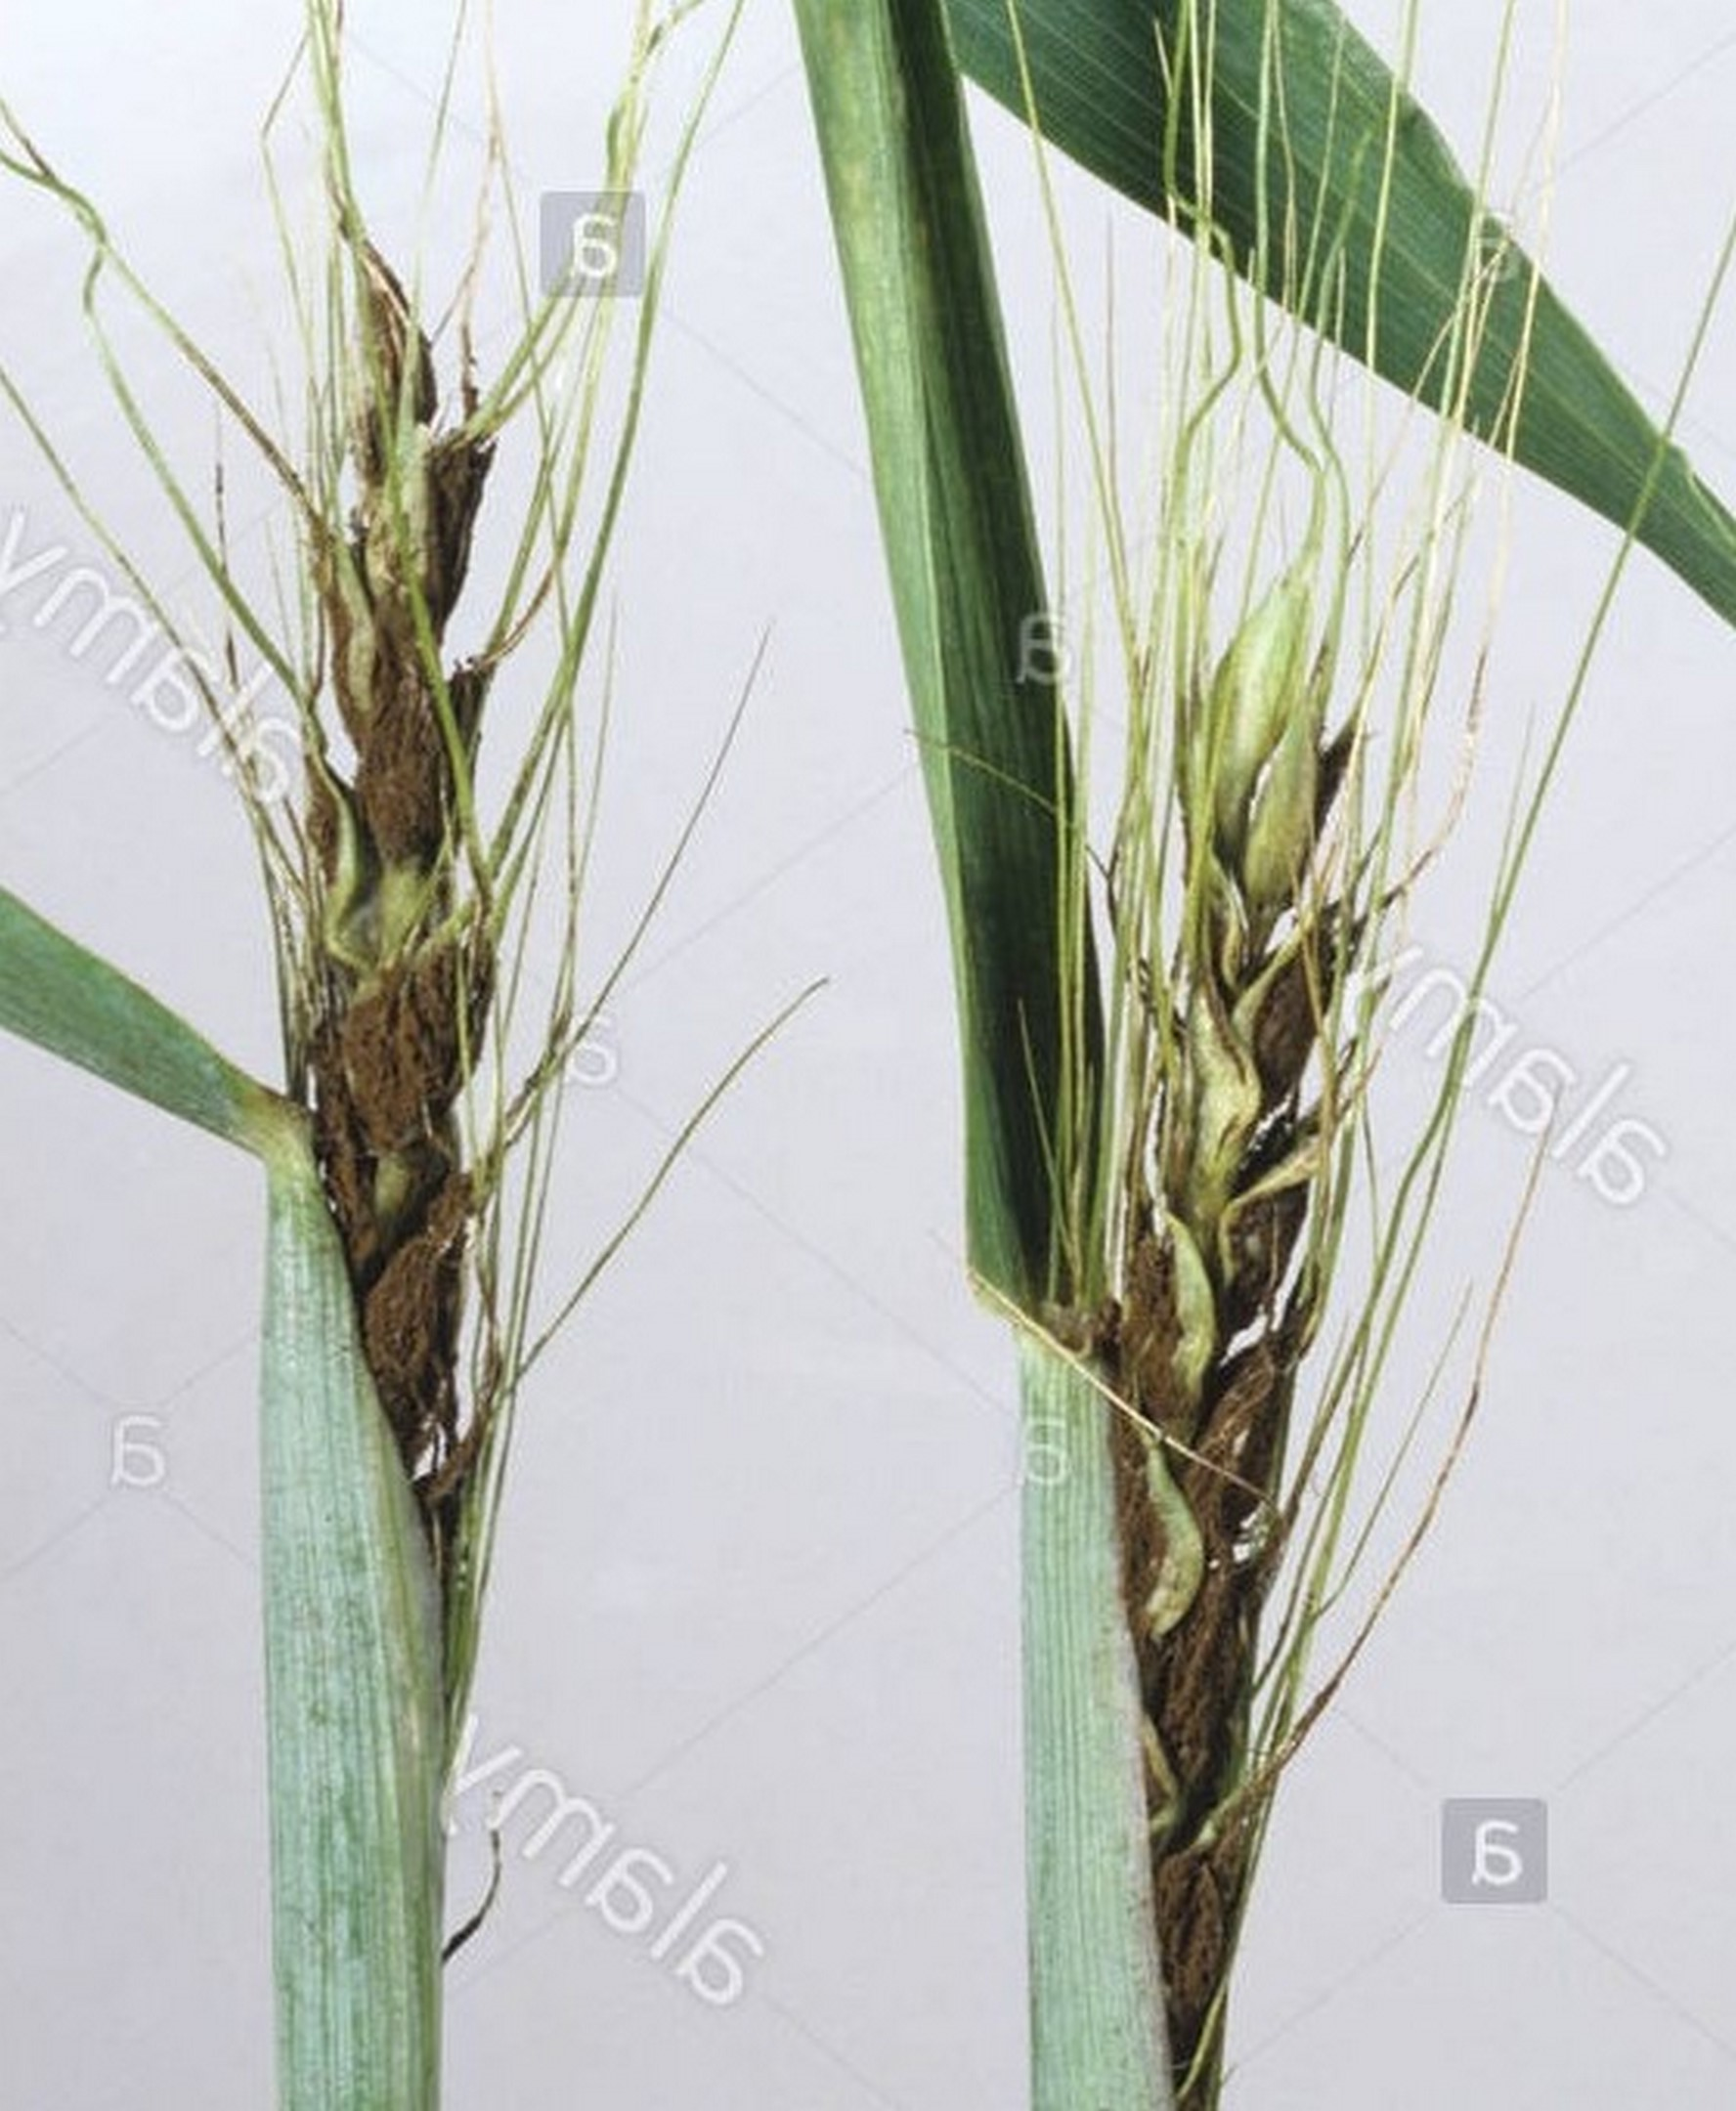Wheat Loose Smut: (994, 573, 1431, 1930), (217, 289, 628, 1443)
